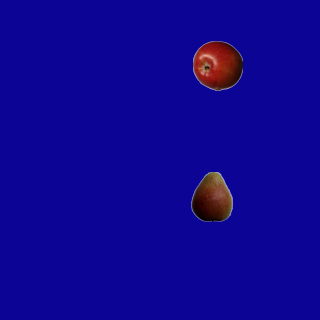Apple Braeburn: (192, 40, 242, 90)
Pear Forelle: (186, 171, 236, 221)
